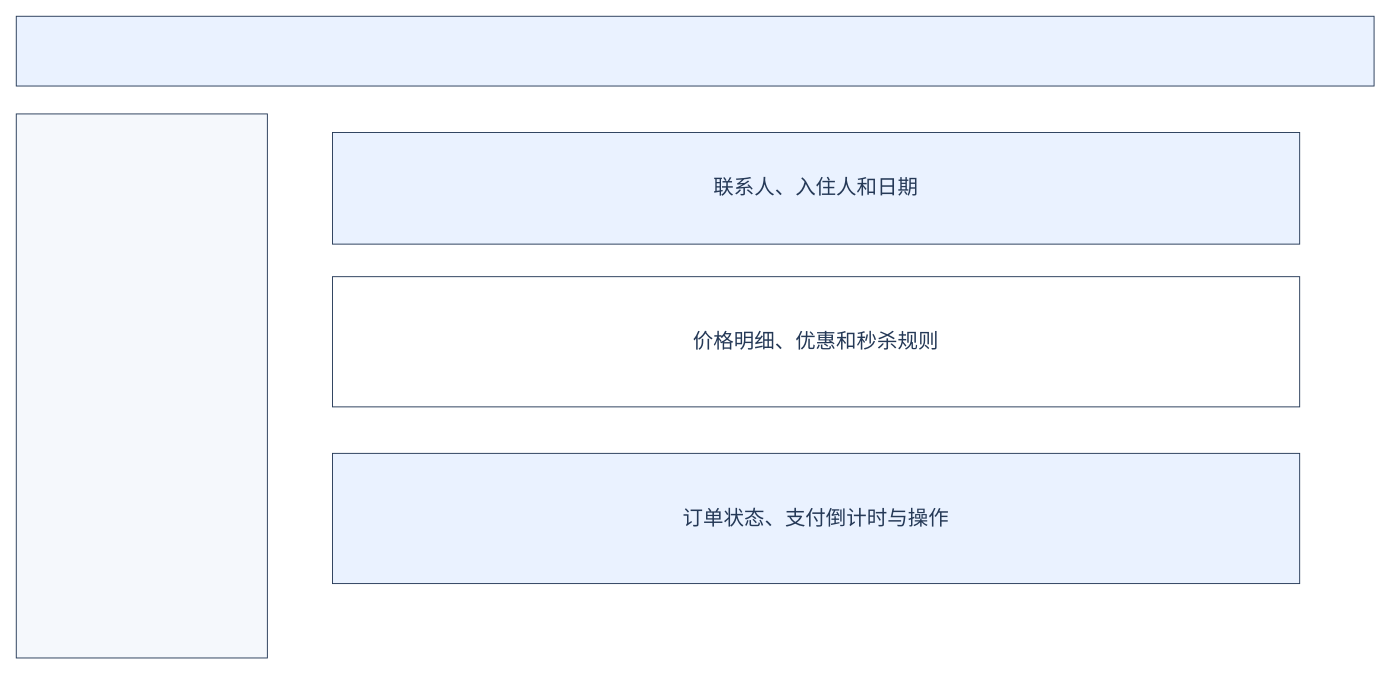
This 1390x674 diagram has some shape labels left out. The shapes that lost their labels are listed below. From the top down, each one's centre as x and y in pixels, then its label:
At point 694,50: "智慧酒店预订与运营管理系统".
At point 141,385: "我的订单".
